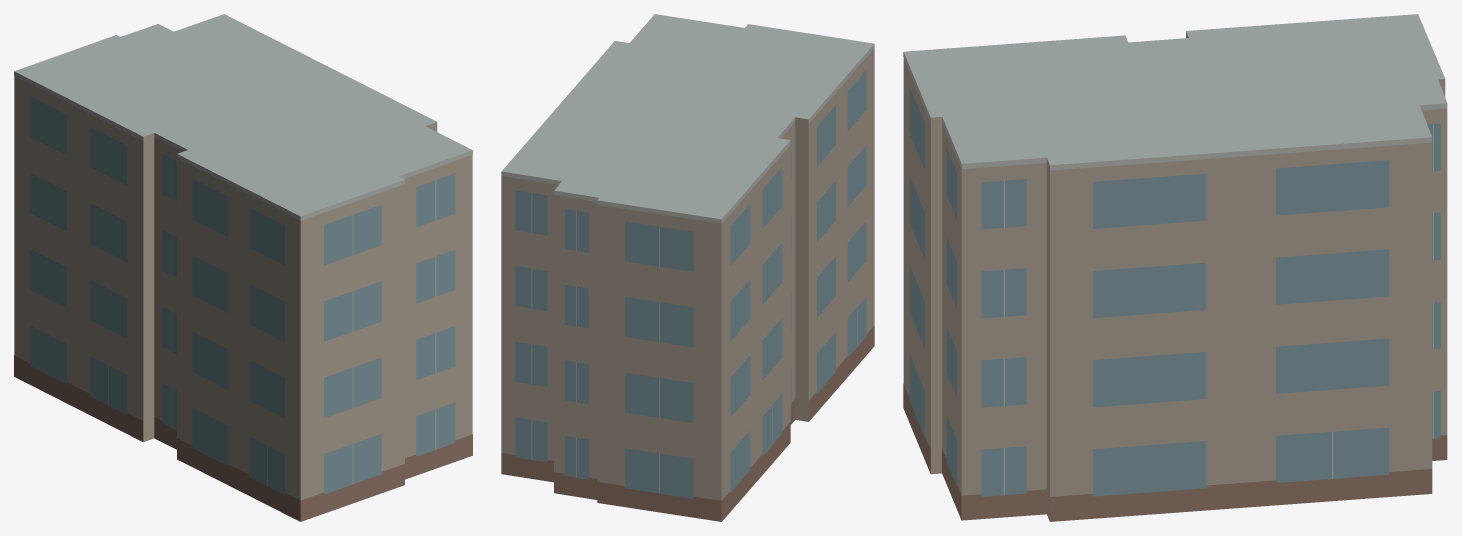
The model's file is survey-upis-32724597.glb.
The picture shows the model from 3 angles, left to right: view 1: azimuth 30°, elevation 25°; view 2: azimuth 150°, elevation 25°; view 3: azimuth 270°, elevation 25°; orthographic projection. The views are drawn at different scales.
Parts seen in each view (by area): view 1: survey-upis-32724597.tmp; view 2: survey-upis-32724597.tmp; view 3: survey-upis-32724597.tmp.
Boxes of the visible parts, x1,y1,x2,y2 form: survey-upis-32724597.tmp: (14, 14, 472, 521); survey-upis-32724597.tmp: (501, 14, 874, 521); survey-upis-32724597.tmp: (903, 14, 1447, 521).
Size of the model in its own units: 14.89 by 16.35 by 22.61.
